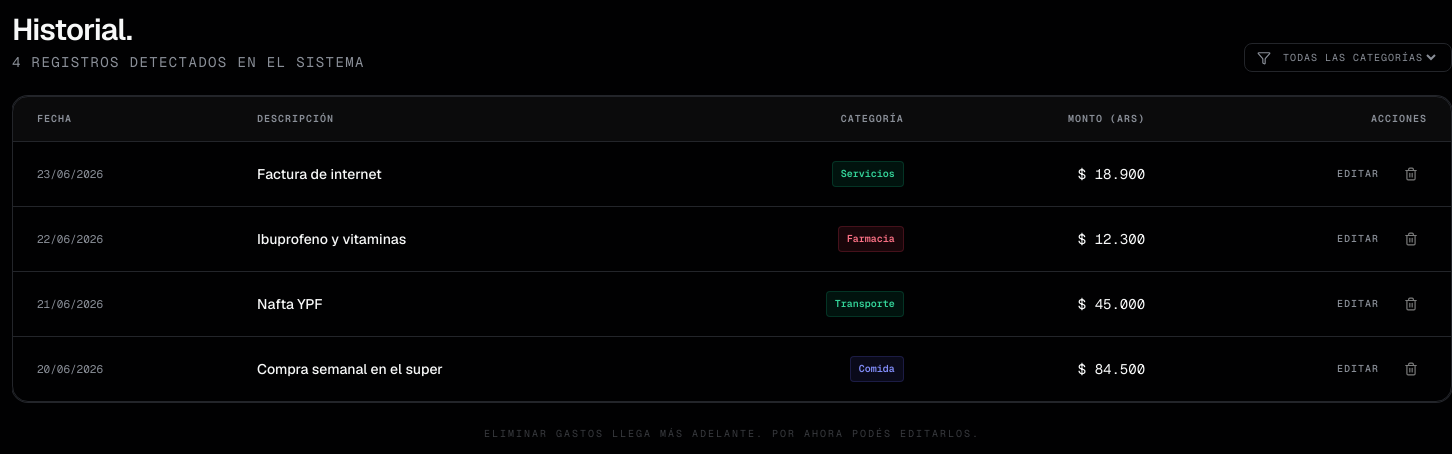
Test: HistoryScreen › shows all backend-supported categories and filters non-legacy ones
Step 1. Select "Servicios" in the dropdown named "Filtrar por categoría" → (1359, 58), box [1279,50,1439,65]
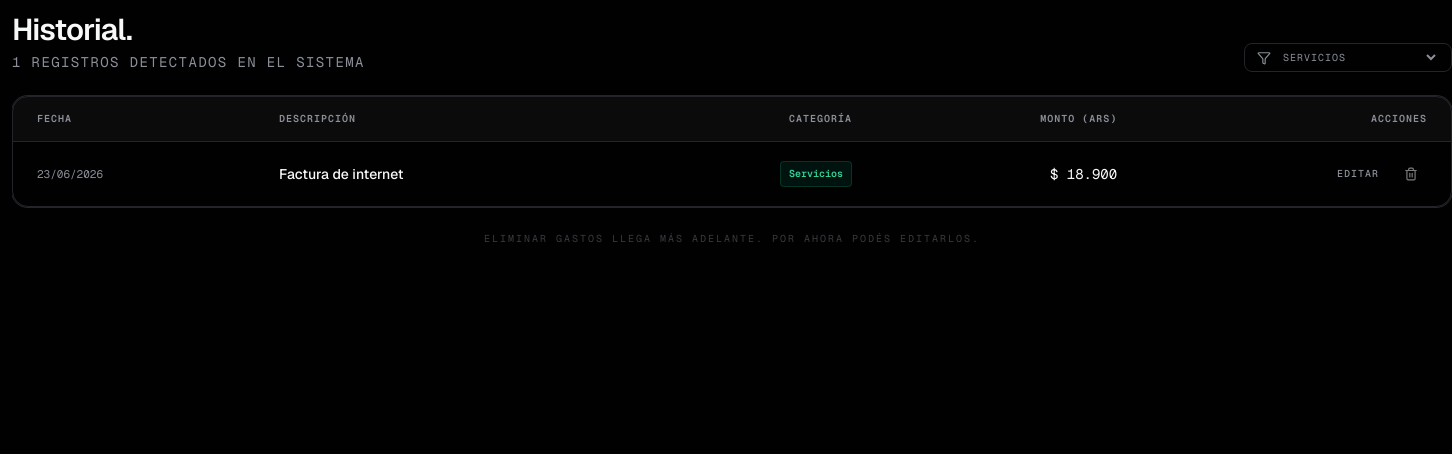
Result: the text "Compra semanal en el super" is gone
Result: the text "Nafta YPF" is gone
Result: the text "Ibuprofeno y vitaminas" is gone
